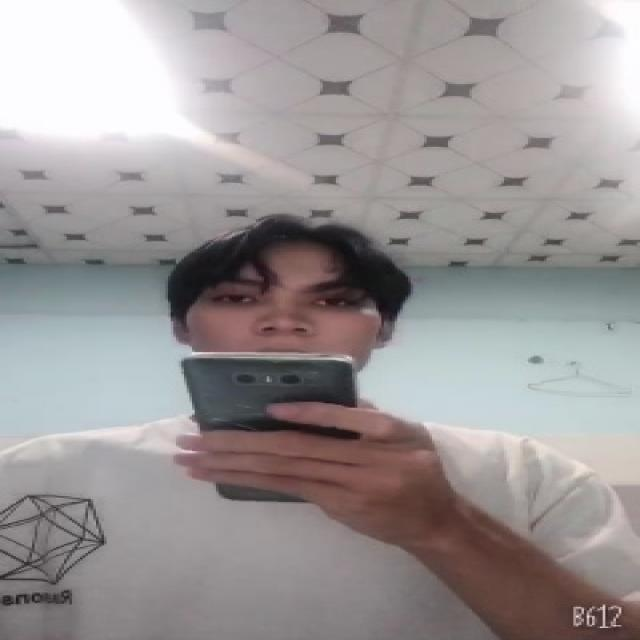Phone: (180, 354, 360, 504)
